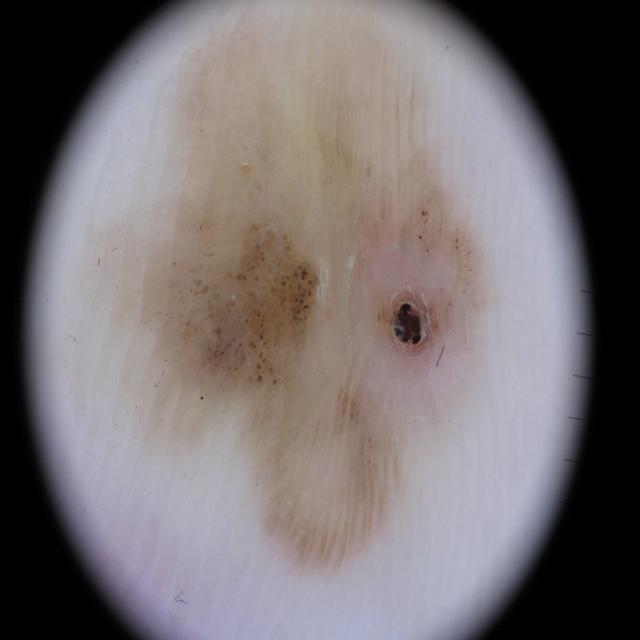Melanoma: (148, 168, 499, 564)
